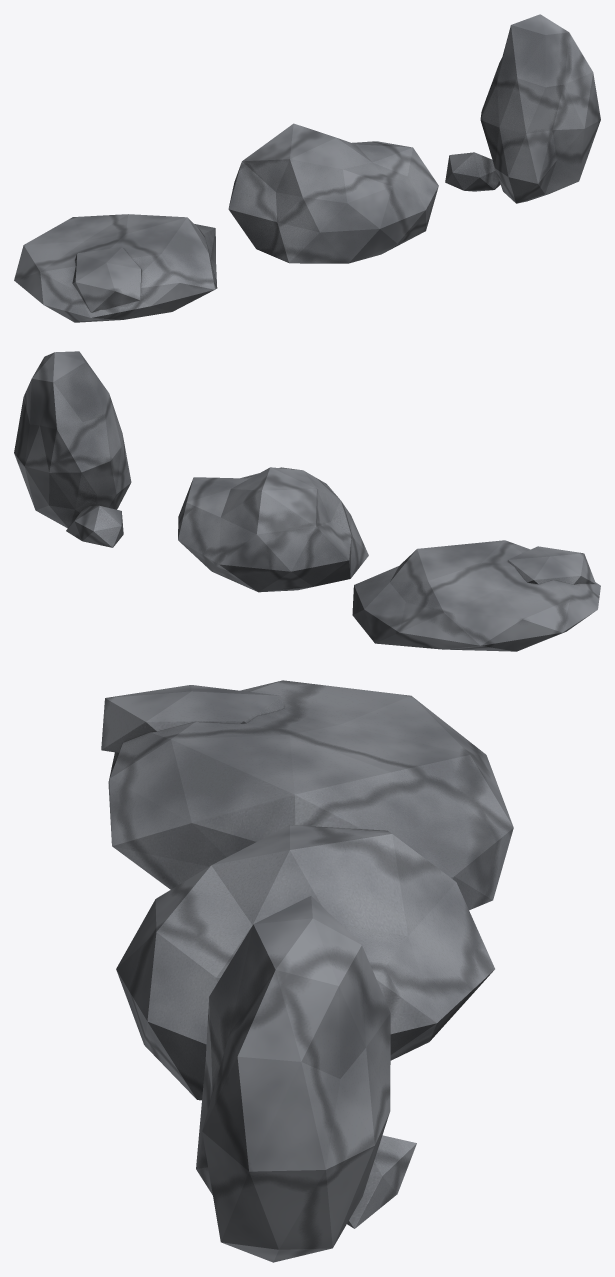
Rendered from piedra_comun.fbx.
The picture shows the model from 3 angles, top to bottom: view 1: azimuth 30°, elevation 25°; view 2: azimuth 150°, elevation 25°; view 3: azimuth 270°, elevation 25°; orthographic projection. The views are drawn at different scales.
Visible parts, largest first — view 1: piedra_comun_a, piedra_comun_c, piedra_comun_b; view 2: piedra_comun_b, piedra_comun_a, piedra_comun_c; view 3: piedra_comun_b, piedra_comun_c, piedra_comun_a.
Boxes of the visible parts, bbox=[...] form: piedra_comun_a: bbox=[228, 123, 438, 263]; piedra_comun_c: bbox=[445, 14, 600, 203]; piedra_comun_b: bbox=[14, 214, 217, 322]; piedra_comun_b: bbox=[352, 540, 600, 651]; piedra_comun_a: bbox=[178, 467, 368, 592]; piedra_comun_c: bbox=[14, 351, 131, 547]; piedra_comun_b: bbox=[101, 680, 513, 910]; piedra_comun_c: bbox=[196, 896, 416, 1262]; piedra_comun_a: bbox=[116, 825, 494, 1100].
Size of the model in its own units: 12.08 by 3.56 by 3.82.
1 material, 1 textured.
